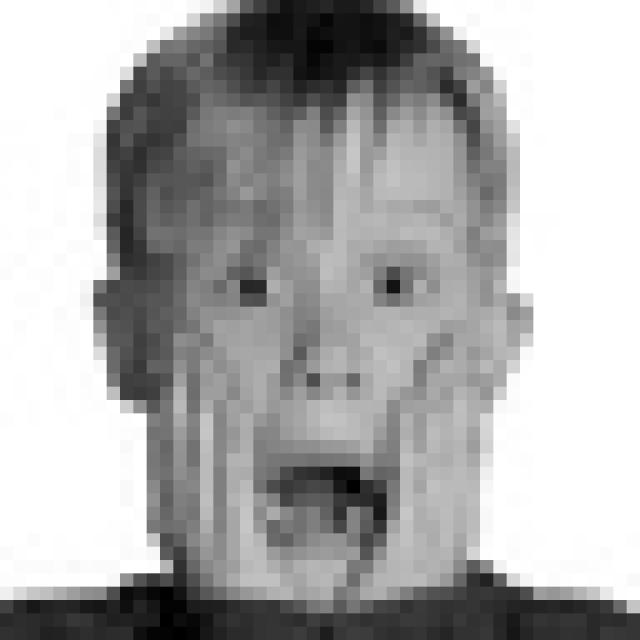fear: (195, 193, 466, 564)
